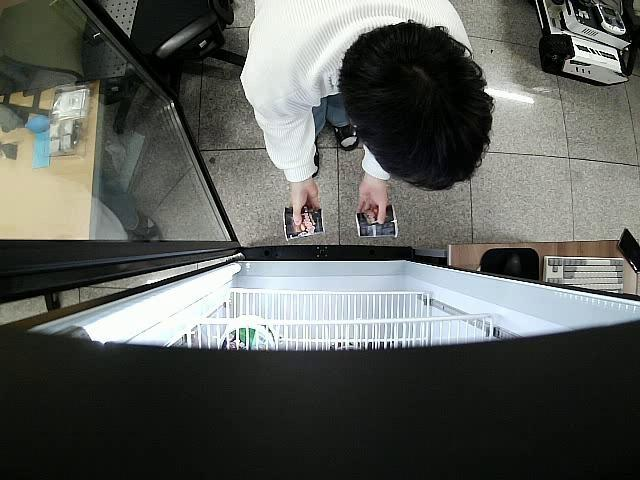08_buldak_S: (356, 200, 400, 241), (282, 204, 326, 242)
